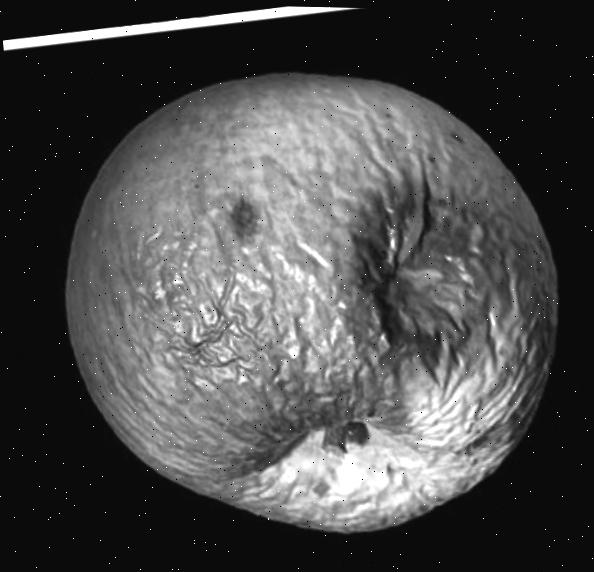ROT: (7, 23, 594, 572)
